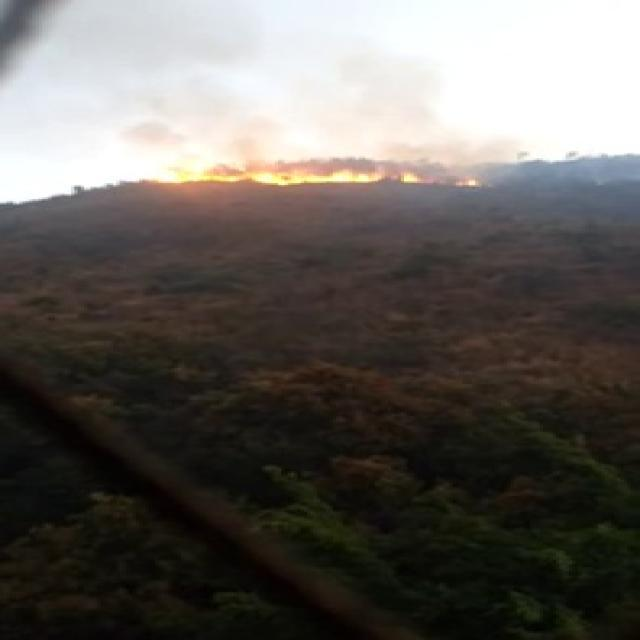Fire: (162, 162, 492, 190)
